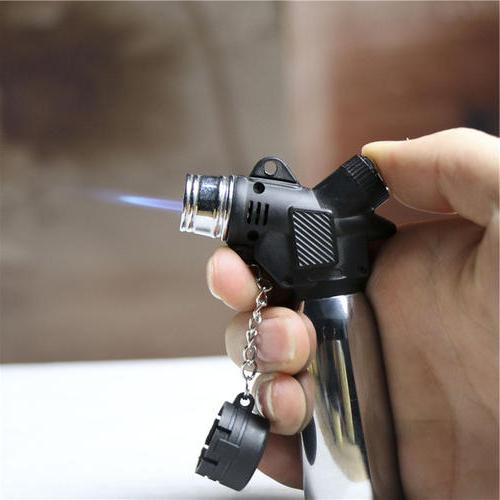fire: (100, 168, 196, 238)
